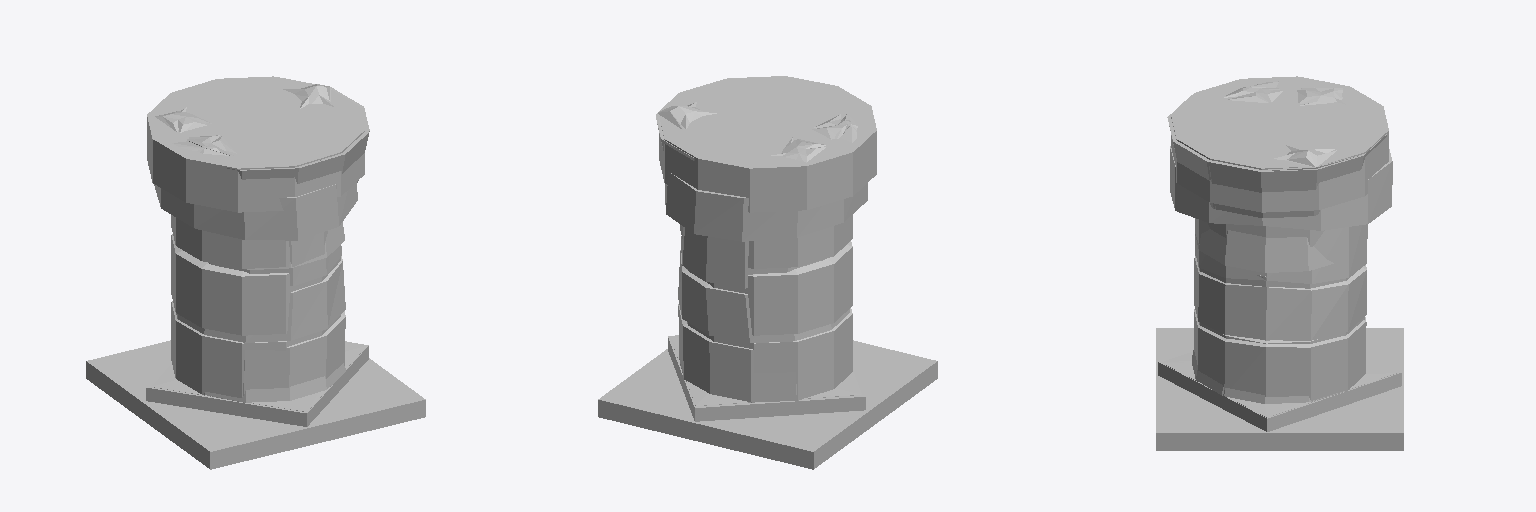
Rendered from Pillar1.obj.
3 renders of one model, left to right at view 1: azimuth 30°, elevation 25°; view 2: azimuth 150°, elevation 25°; view 3: azimuth 270°, elevation 25°, orthographic.
Visible parts, largest first — view 1: Plane, Plane.001, Plane.002, Plane.003; view 2: Plane, Plane.001, Plane.002, Plane.003; view 3: Plane.001, Plane, Plane.003, Plane.002.
Part boxes in pixels (left/top/right/bottom): Plane: left=86, top=76, right=425, bottom=469; Plane.001: left=88, top=182, right=422, bottom=451; Plane.002: left=89, top=83, right=421, bottom=450; Plane.003: left=89, top=78, right=421, bottom=449; Plane: left=598, top=76, right=937, bottom=469; Plane.001: left=598, top=171, right=936, bottom=450; Plane.002: left=606, top=76, right=932, bottom=450; Plane.003: left=601, top=76, right=929, bottom=450; Plane.001: left=1156, top=146, right=1403, bottom=432; Plane: left=1156, top=76, right=1403, bottom=450; Plane.003: left=1156, top=118, right=1403, bottom=432; Plane.002: left=1156, top=81, right=1403, bottom=432.
Bounding box in the file's own units: 2 × 2.52 × 2.